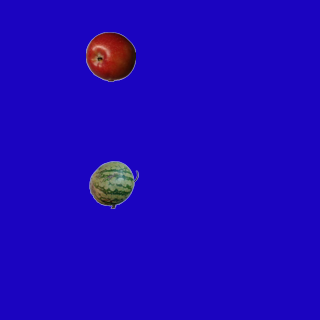Apple Braeburn: (85, 31, 135, 81)
Watermelon: (88, 159, 138, 209)
